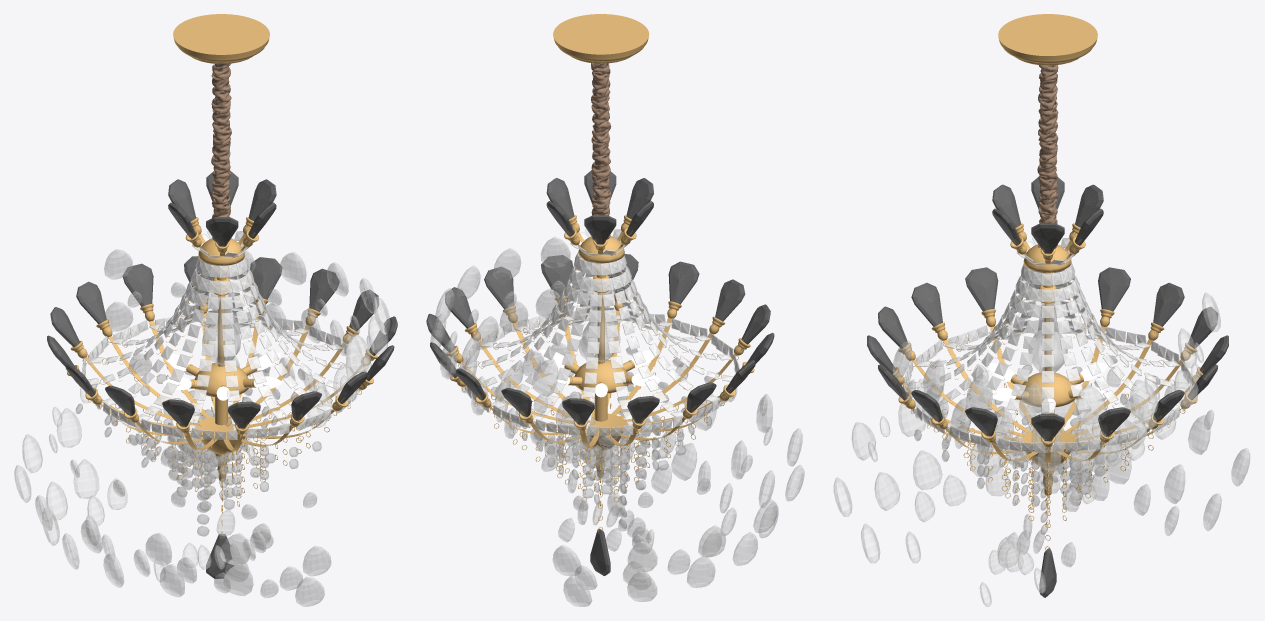
File: obj_monte_carlo_delux_65_30e585.glb
The picture shows the model from 3 angles, left to right: view 1: azimuth 30°, elevation 25°; view 2: azimuth 150°, elevation 25°; view 3: azimuth 270°, elevation 25°; orthographic projection. The views are drawn at different scales.
Parts seen in each view (by area): view 1: obj_monte_carlo_delux_65_30e585; view 2: obj_monte_carlo_delux_65_30e585; view 3: obj_monte_carlo_delux_65_30e585.
Boxes of the visible parts, bbox=[...] form: obj_monte_carlo_delux_65_30e585: bbox=[14, 14, 397, 606]; obj_monte_carlo_delux_65_30e585: bbox=[426, 14, 804, 606]; obj_monte_carlo_delux_65_30e585: bbox=[833, 14, 1250, 606].
Bounding box in the file's own units: 0.5105 × 0.8 × 0.5382.
